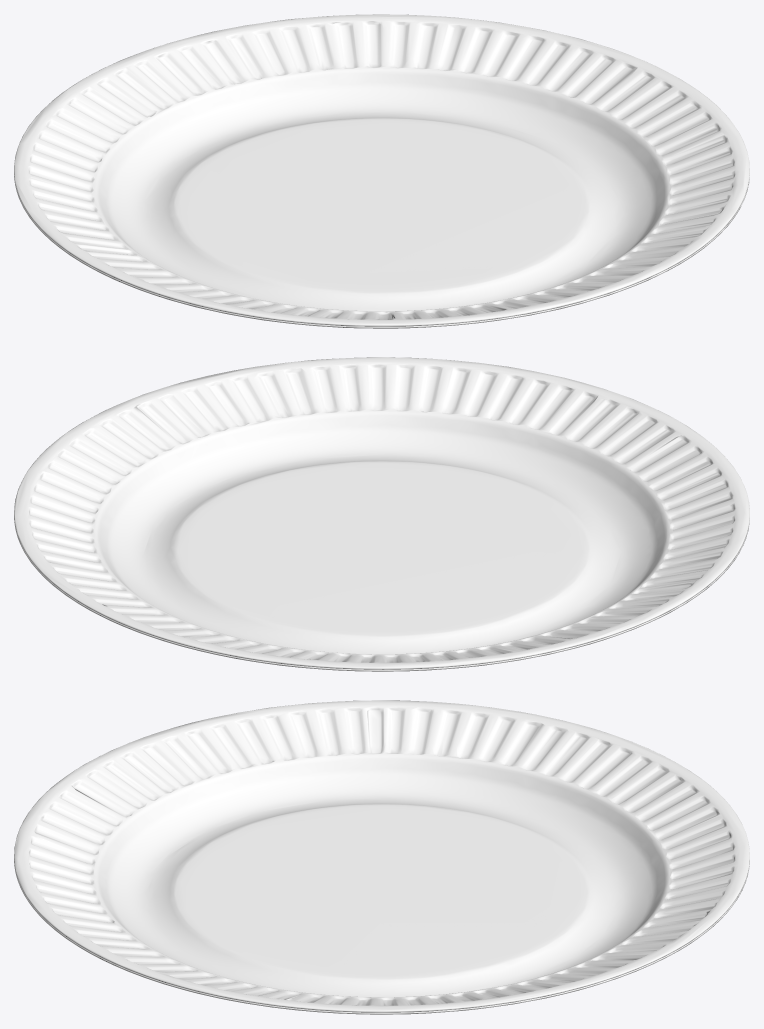
Rendered from plate.gltf.
3 renders of one model, top to bottom at view 1: azimuth 30°, elevation 25°; view 2: azimuth 150°, elevation 25°; view 3: azimuth 270°, elevation 25°, orthographic.
Parts seen in each view (by area): view 1: outside, downside; view 2: outside, downside; view 3: outside, downside.
Part boxes in pixels (x1,y1,x2,y2): outside: (14,14,749,326); downside: (14,174,749,328); outside: (14,357,749,669); downside: (14,518,749,671); outside: (14,700,749,1012); downside: (14,861,749,1014).
Bounding box in the file's own units: 3.73 × 0.2604 × 3.73.
2 materials, 2 textured.
